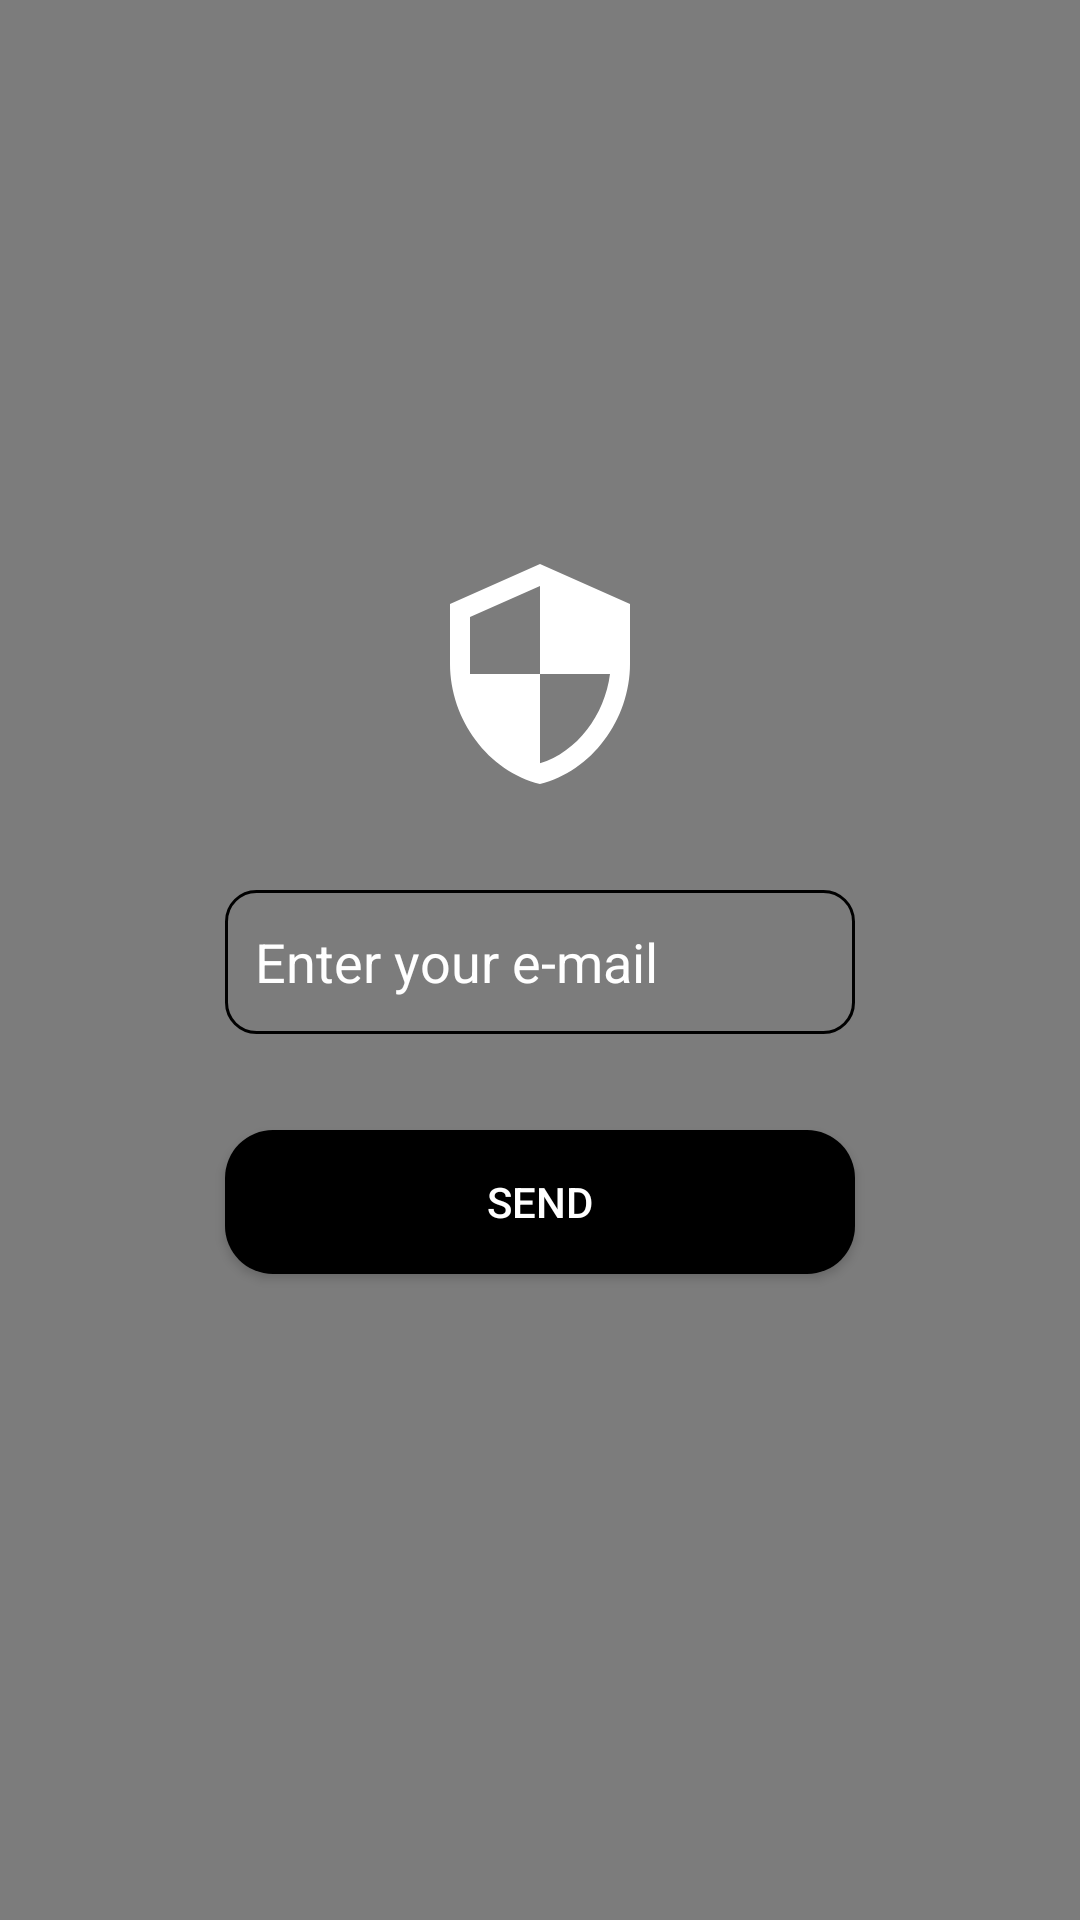

Icon click points for this 1080×1920 phone screenshot, format [x,y]:
security: [540,674]
